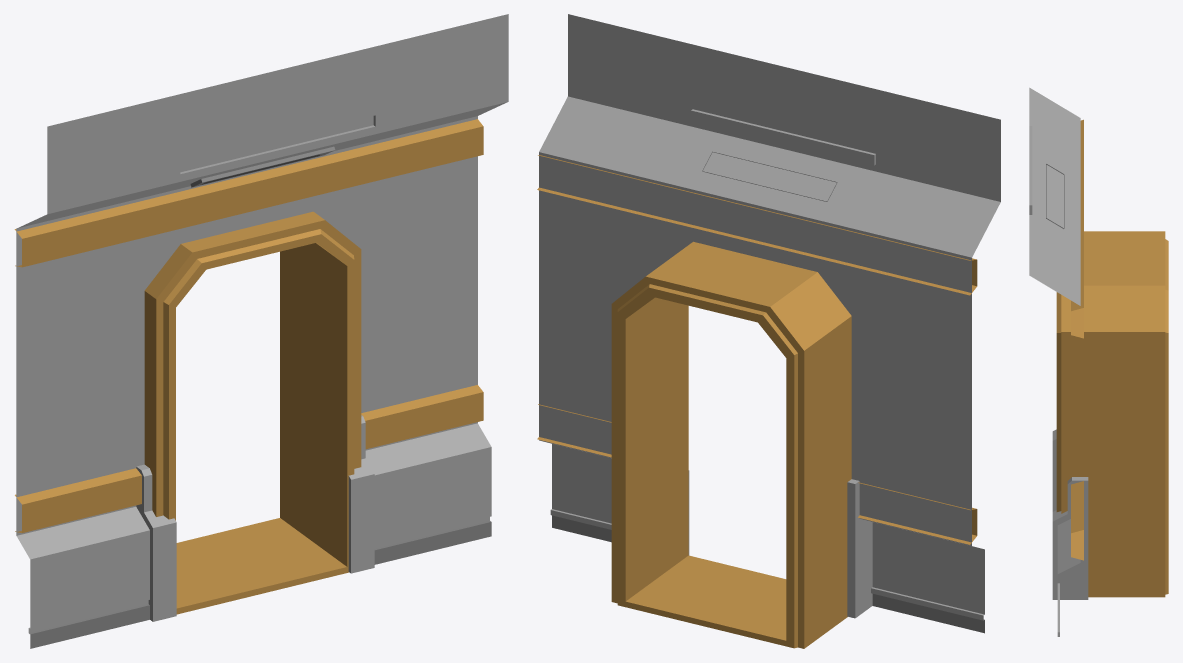
Rendered from DoorSingle_Wall_SideA.gltf.
3 views of the same model, side by side, from view 1: azimuth 30°, elevation 25°; view 2: azimuth 150°, elevation 25°; view 3: azimuth 270°, elevation 25° (orthographic). The views are drawn at different scales.
Parts seen in each view (by area): view 1: DoorSingle_Wall_SideA; view 2: DoorSingle_Wall_SideA; view 3: DoorSingle_Wall_SideA.
Boxes of the visible parts, x1,y1,x2,y2 form: DoorSingle_Wall_SideA: (14,14,508,648); DoorSingle_Wall_SideA: (537,14,1000,648); DoorSingle_Wall_SideA: (1029,87,1168,636).
Size of the model in its own units: 4 by 4.44 by 1.25.
